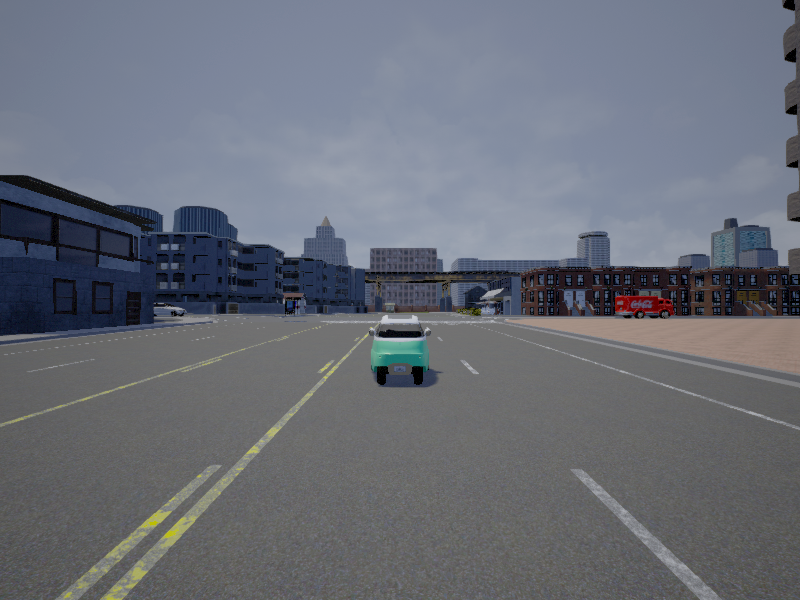Benign: (369, 312, 431, 385), (614, 295, 673, 318), (151, 302, 188, 317)
